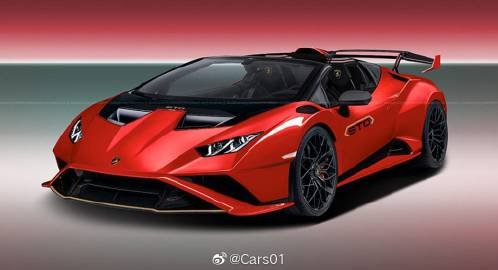other: (37, 46, 452, 226)
